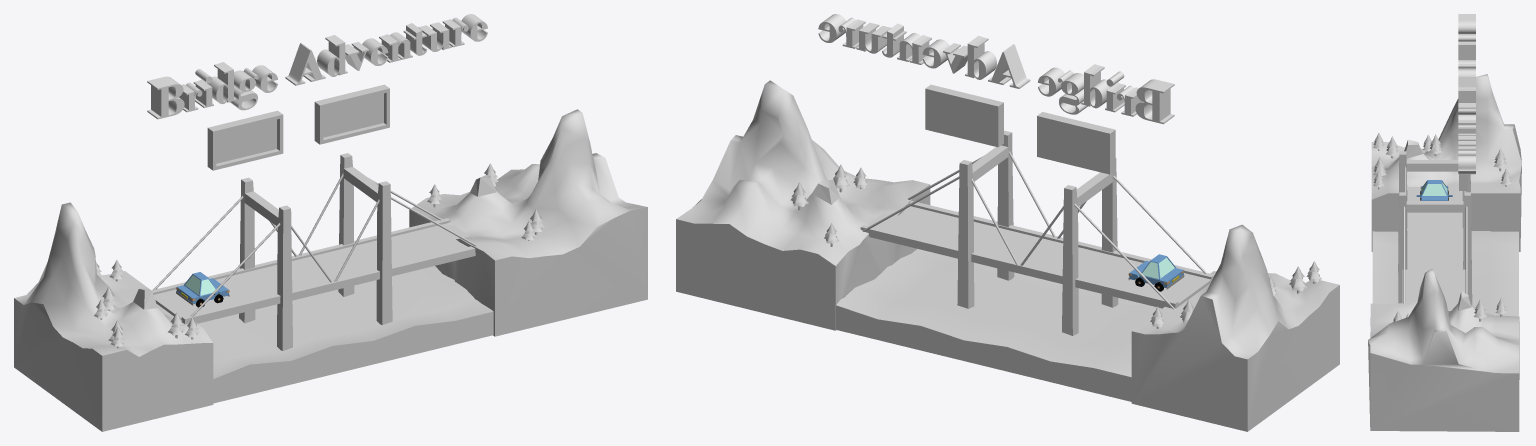
File: MainMenuTrial.fbx
The picture shows the model from 3 angles, left to right: view 1: azimuth 30°, elevation 25°; view 2: azimuth 150°, elevation 25°; view 3: azimuth 270°, elevation 25°; orthographic projection. The views are drawn at different scales.
Parts seen in each view (by area): view 1: Box043, Box045, Box044, Text001, Box046, Box048, Box049, Cylinder047, Box047; view 2: Box043, Box045, Box044, Text001, Box046, Box048, Box049, Cylinder047, Box047; view 3: Box043, Box045, Box044, Box046, Text001, Box047, Cylinder047, Cone017, Cone013, Cone008, Cone010.
Boxes of the visible parts, x1,y1,x2,y2 form: Box043: [14, 109, 647, 431]; Box045: [197, 266, 493, 403]; Box044: [151, 218, 475, 324]; Text001: [147, 14, 487, 119]; Box046: [239, 153, 392, 350]; Box048: [207, 110, 283, 170]; Box049: [314, 84, 389, 144]; Cylinder047: [153, 177, 476, 323]; Box047: [176, 272, 229, 307]; Box043: [676, 80, 1339, 431]; Box045: [836, 249, 1161, 401]; Box044: [860, 200, 1214, 308]; Text001: [818, 14, 1174, 124]; Box046: [957, 130, 1118, 335]; Box048: [1037, 112, 1115, 174]; Box049: [925, 84, 1003, 147]; Cylinder047: [862, 156, 1207, 309]; Box047: [1128, 254, 1184, 291]; Box043: [1368, 74, 1521, 431]; Box045: [1372, 231, 1518, 316]; Box044: [1402, 185, 1465, 312]; Box046: [1398, 151, 1472, 304]; Text001: [1458, 14, 1475, 174]; Box047: [1416, 180, 1452, 200]; Cylinder047: [1403, 206, 1467, 303]; Cone017: [1473, 299, 1486, 321]; Cone013: [1494, 148, 1506, 171]; Cone008: [1386, 136, 1398, 158]; Cone010: [1429, 134, 1441, 156].
Size of the model in its own units: 807 by 393 by 231.
Materials: 6 (6 with a texture image).
